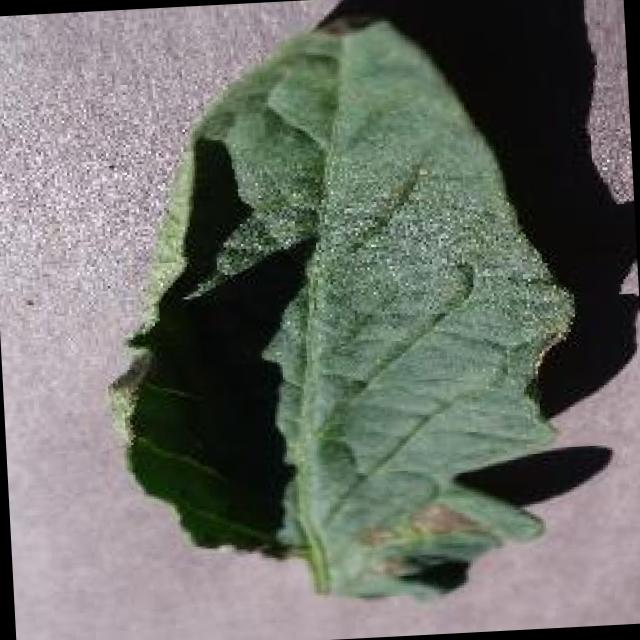Tomato_Early_Blight: (118, 341, 514, 600)
